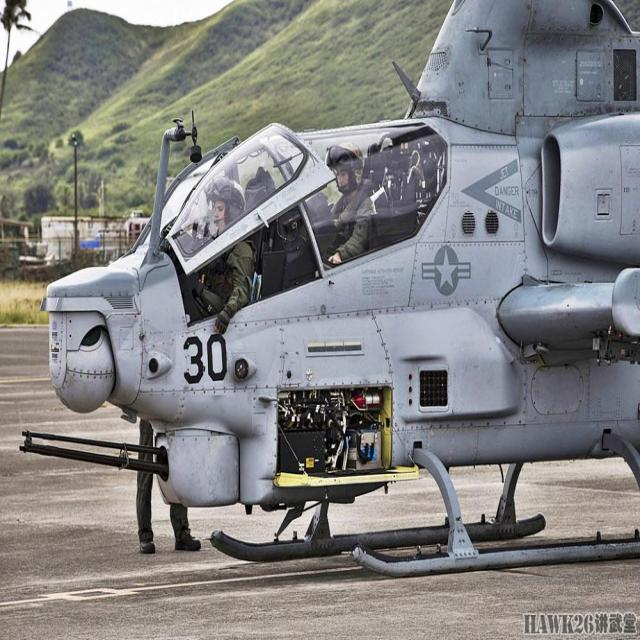MIL_HELO: (24, 0, 640, 576)
